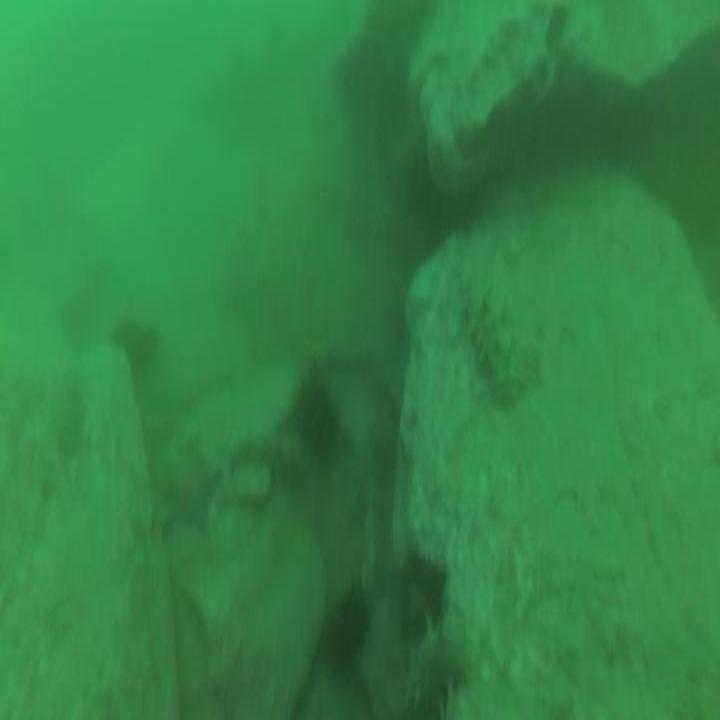echinus: (285, 361, 344, 467), (317, 576, 379, 674)
holothurian: (397, 608, 472, 720), (459, 274, 522, 407)
starfish: (154, 436, 224, 540)
